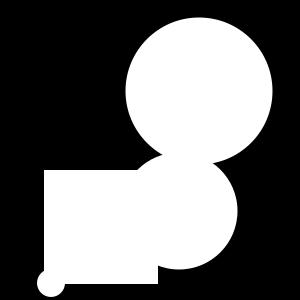circle: (44, 170, 158, 284)
rectangle: (126, 18, 272, 164), (120, 152, 238, 270), (37, 269, 65, 297)
